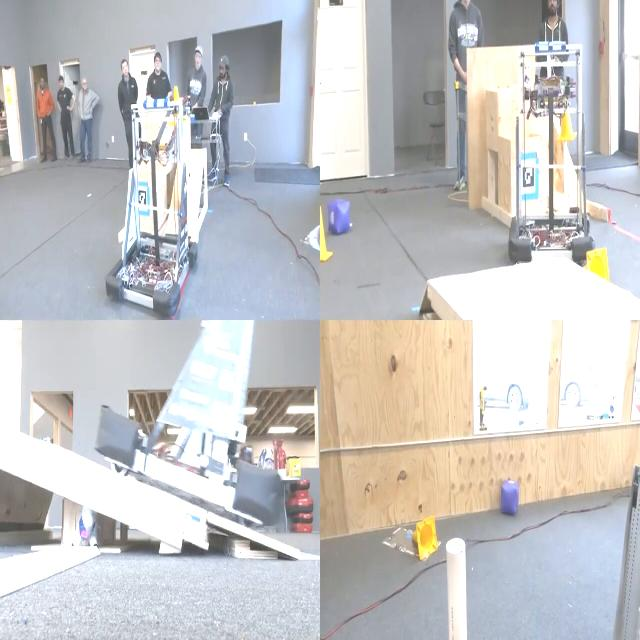frc_cone: (584, 243, 614, 286), (313, 199, 331, 270), (414, 516, 441, 558), (556, 96, 577, 144), (172, 86, 184, 125)
frc_cube: (498, 479, 526, 519), (336, 202, 353, 236)
